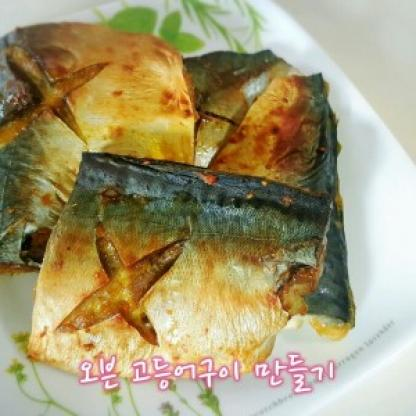Peixe: (0, 14, 371, 381)
